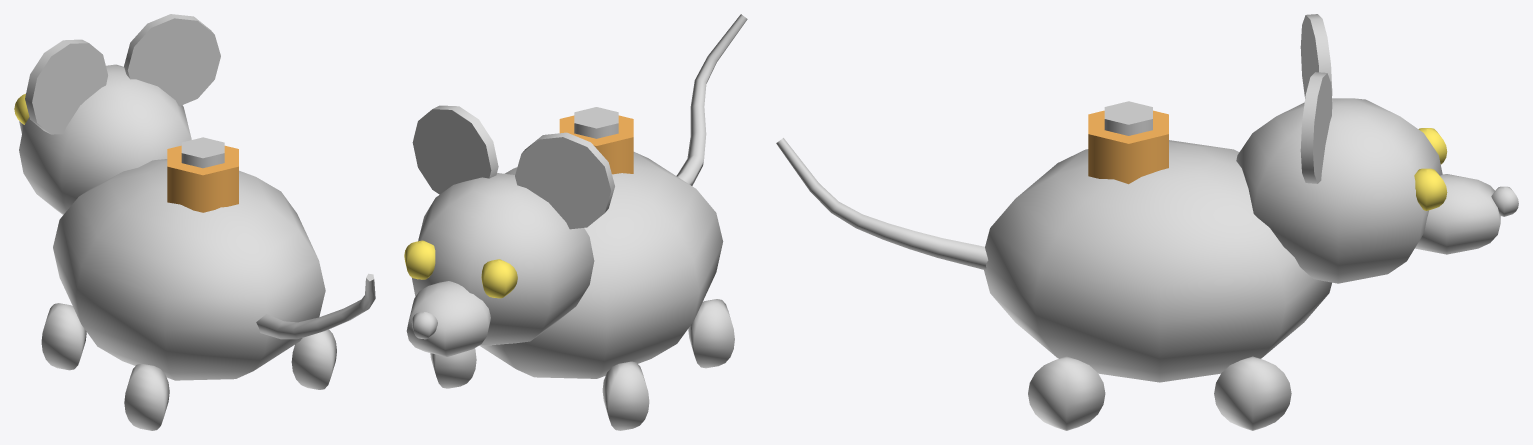
File: ScrapRat.glb
The picture shows the model from 3 angles, left to right: view 1: azimuth 30°, elevation 25°; view 2: azimuth 150°, elevation 25°; view 3: azimuth 270°, elevation 25°; orthographic projection. The views are drawn at different scales.
Parts seen in each view (by area): view 1: Body, Bolt; view 2: Body, Eyes, Bolt; view 3: Body, Bolt, Eyes.
Part boxes in pixels (x1,y1,x2,y2): Body: (19, 14, 375, 430); Bolt: (167, 145, 238, 212); Body: (406, 14, 747, 430); Eyes: (404, 240, 517, 298); Bolt: (559, 115, 633, 174); Body: (776, 14, 1518, 430); Bolt: (1088, 110, 1168, 184); Eyes: (1414, 128, 1447, 210).
Bounding box in the file's own units: 1.9 × 2.38 × 4.79.
